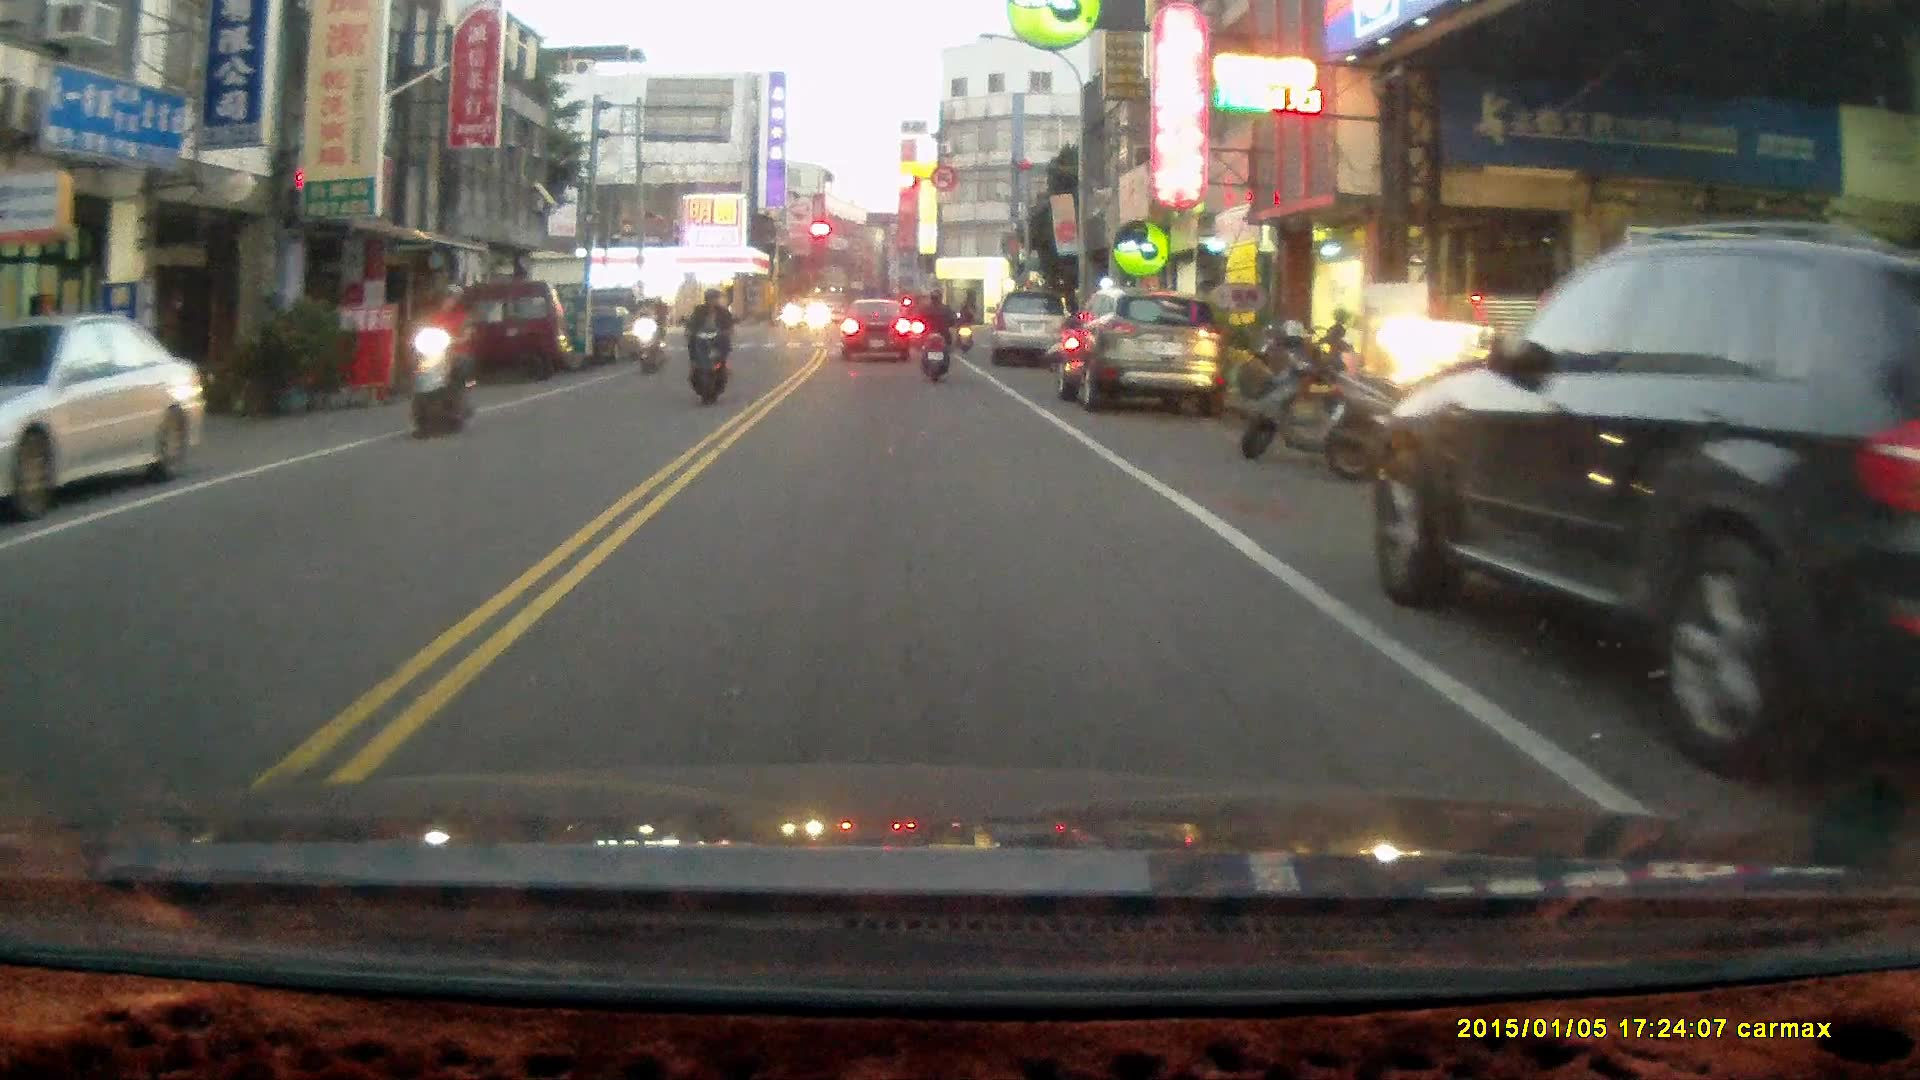rider: (407, 280, 480, 435), (682, 280, 729, 404), (913, 285, 954, 382), (630, 291, 666, 376), (954, 295, 977, 353)
vehicle: (1368, 231, 1920, 793), (1, 315, 204, 514), (1056, 288, 1223, 409), (411, 278, 576, 383), (996, 284, 1075, 363)
